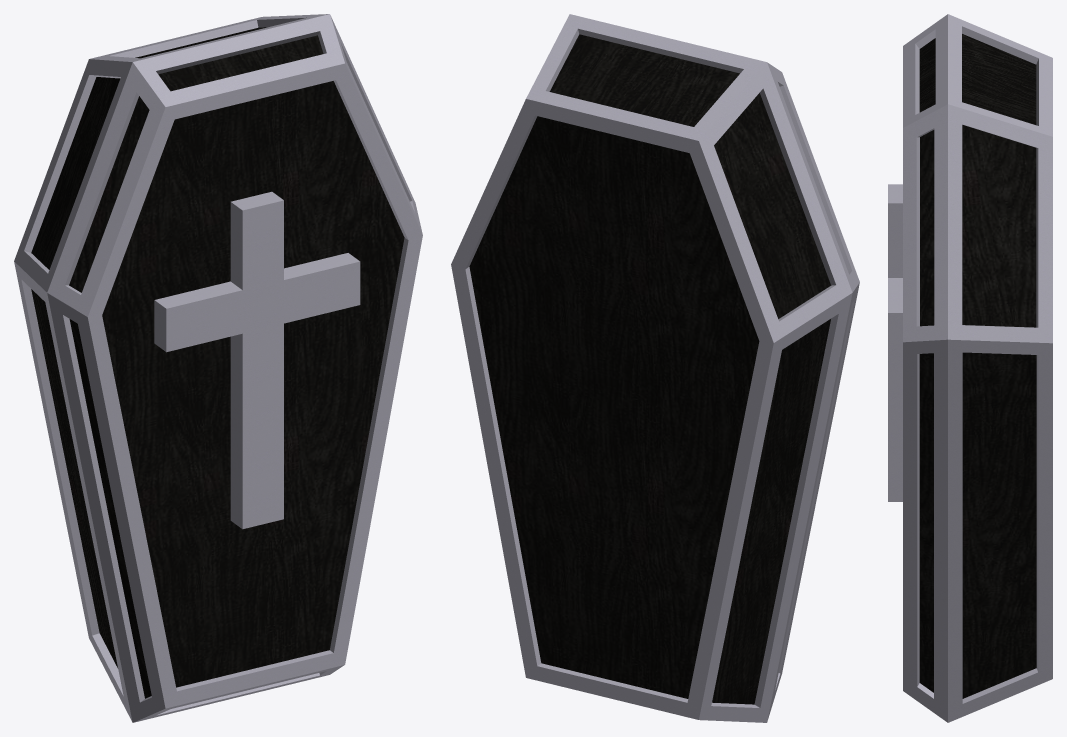
File: coffin.gltf
3 views of the same model, side by side, from view 1: azimuth 30°, elevation 25°; view 2: azimuth 150°, elevation 25°; view 3: azimuth 270°, elevation 25° (orthographic). The views are drawn at different scales.
Parts seen in each view (by area): view 1: node-0; view 2: node-0; view 3: node-0.
Boxes of the visible parts, x1,y1,x2,y2 form: node-0: [14, 14, 422, 722]; node-0: [451, 14, 859, 722]; node-0: [888, 14, 1052, 722].
Size of the model in its own units: 2.66 by 4.56 by 1.1.
Materials: 2 (2 with a texture image).
